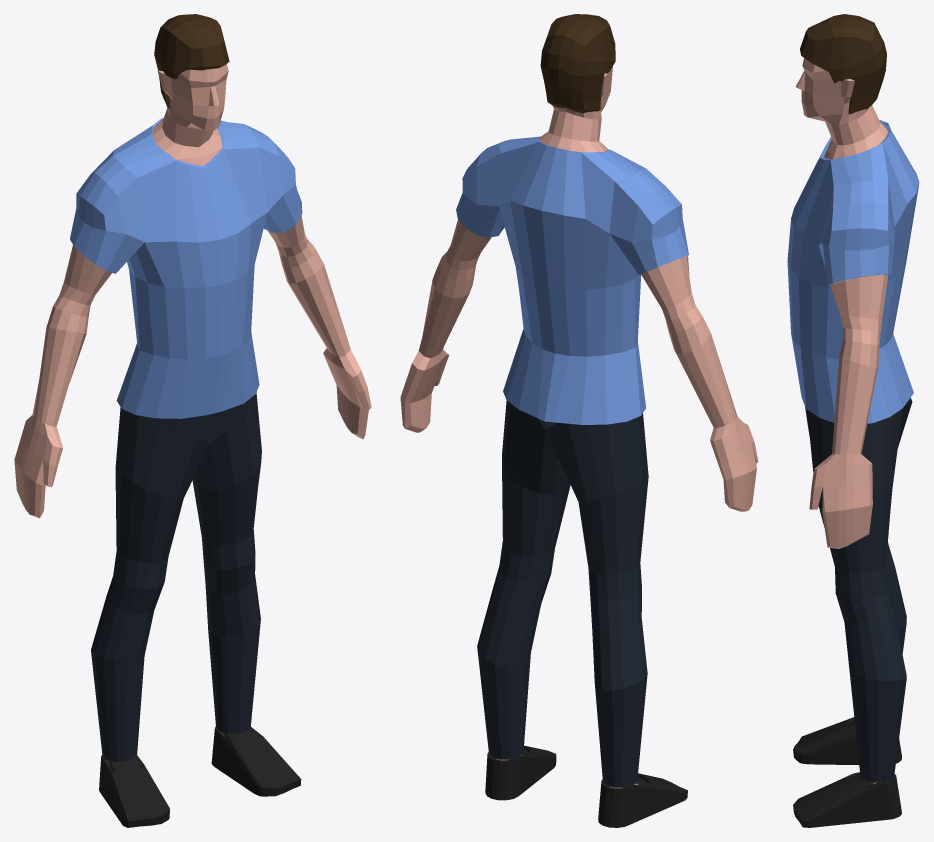
Rendered from man_character_2.fbx.
3 views of the same model, side by side, from view 1: azimuth 30°, elevation 25°; view 2: azimuth 150°, elevation 25°; view 3: azimuth 270°, elevation 25° (orthographic).
Parts seen in each view (by area): view 1: Human full; view 2: Human full; view 3: Human full.
Boxes of the visible parts, bbox=[...] form: Human full: bbox=[14, 14, 371, 827]; Human full: bbox=[400, 14, 758, 827]; Human full: bbox=[787, 14, 919, 827].
Size of the model in its own units: 91.39 by 199 by 31.13.
